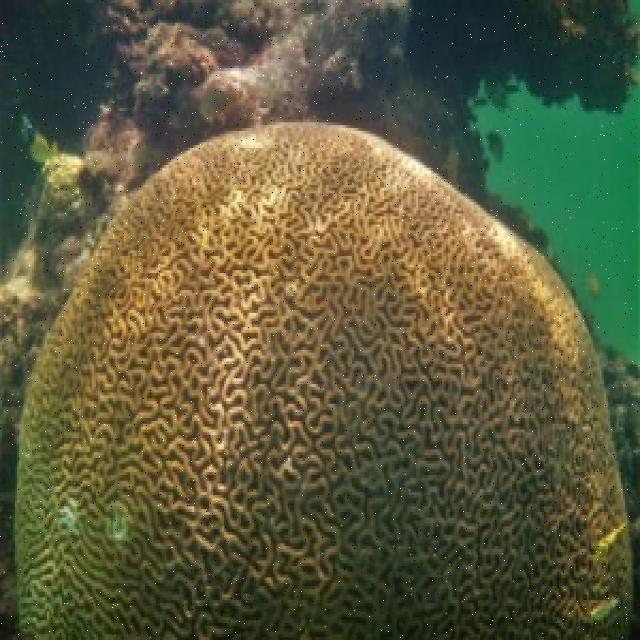Bleached: (19, 292, 627, 640), (85, 133, 576, 300), (189, 5, 305, 126)
Healthy: (306, 1, 640, 114), (1, 1, 179, 161)
